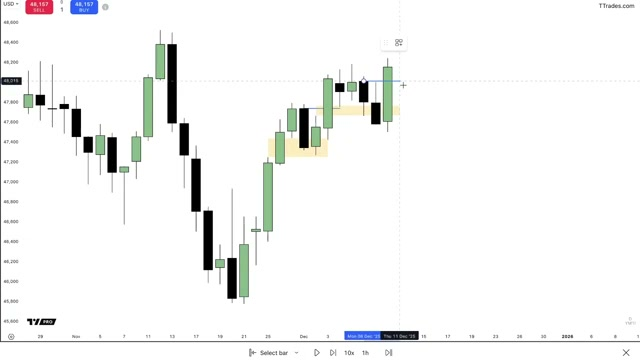protected_swing: (285, 138, 328, 158)
